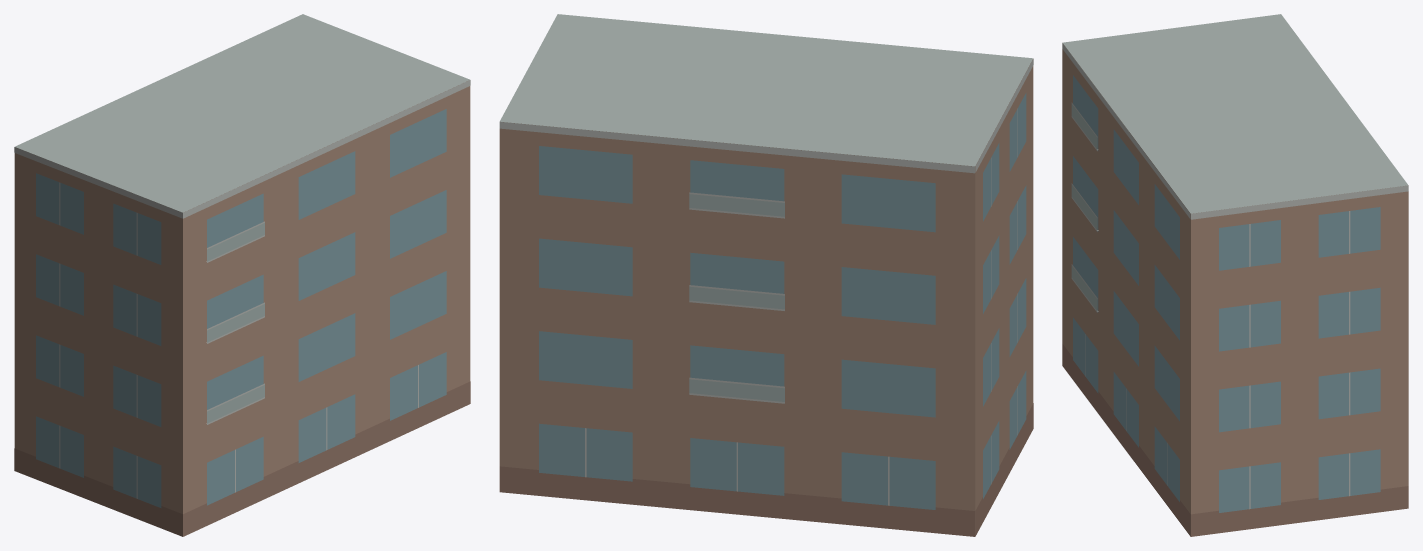
Rendered from survey-upis-32992387.glb.
The picture shows the model from 3 angles, left to right: view 1: azimuth 30°, elevation 25°; view 2: azimuth 150°, elevation 25°; view 3: azimuth 270°, elevation 25°; orthographic projection. The views are drawn at different scales.
Parts seen in each view (by area): view 1: survey-upis-32992387.tmp; view 2: survey-upis-32992387.tmp; view 3: survey-upis-32992387.tmp.
Part boxes in pixels (bbox=[...]): survey-upis-32992387.tmp: bbox=[14, 14, 470, 536]; survey-upis-32992387.tmp: bbox=[499, 14, 1033, 536]; survey-upis-32992387.tmp: bbox=[1062, 14, 1408, 536].
Bounding box in the file's own units: 17.38 × 13.1 × 12.73.
